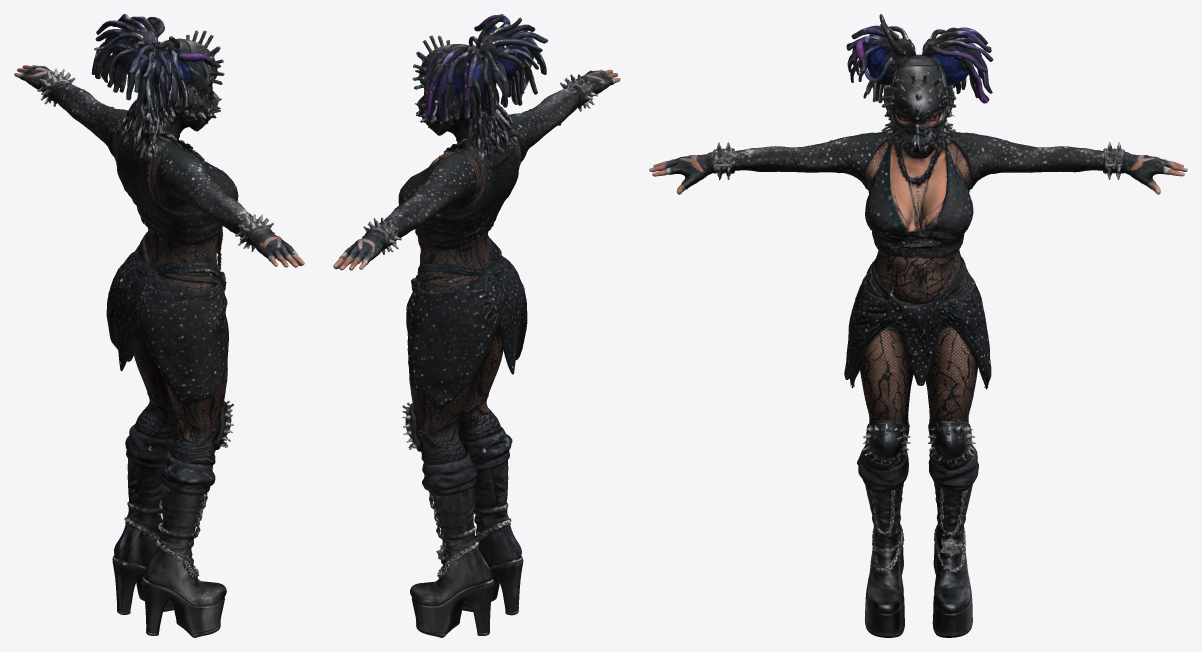
The model's file is theory-a3-render.glb.
3 renders of one model, left to right at view 1: azimuth 30°, elevation 25°; view 2: azimuth 150°, elevation 25°; view 3: azimuth 270°, elevation 25°, orthographic.
Visible parts, largest first — view 1: tripo_node_0e82c013-4833-419d-9eaf-a3d8d6a67e3d; view 2: tripo_node_0e82c013-4833-419d-9eaf-a3d8d6a67e3d; view 3: tripo_node_0e82c013-4833-419d-9eaf-a3d8d6a67e3d.
Part boxes in pixels (left/top/right/bottom): tripo_node_0e82c013-4833-419d-9eaf-a3d8d6a67e3d: left=14, top=14, right=304, bottom=637; tripo_node_0e82c013-4833-419d-9eaf-a3d8d6a67e3d: left=333, top=14, right=620, bottom=637; tripo_node_0e82c013-4833-419d-9eaf-a3d8d6a67e3d: left=649, top=14, right=1187, bottom=637.
Bounding box in the file's own units: 0.1888 × 0.9808 × 0.8076.
Materials: 1 (1 with a texture image).
